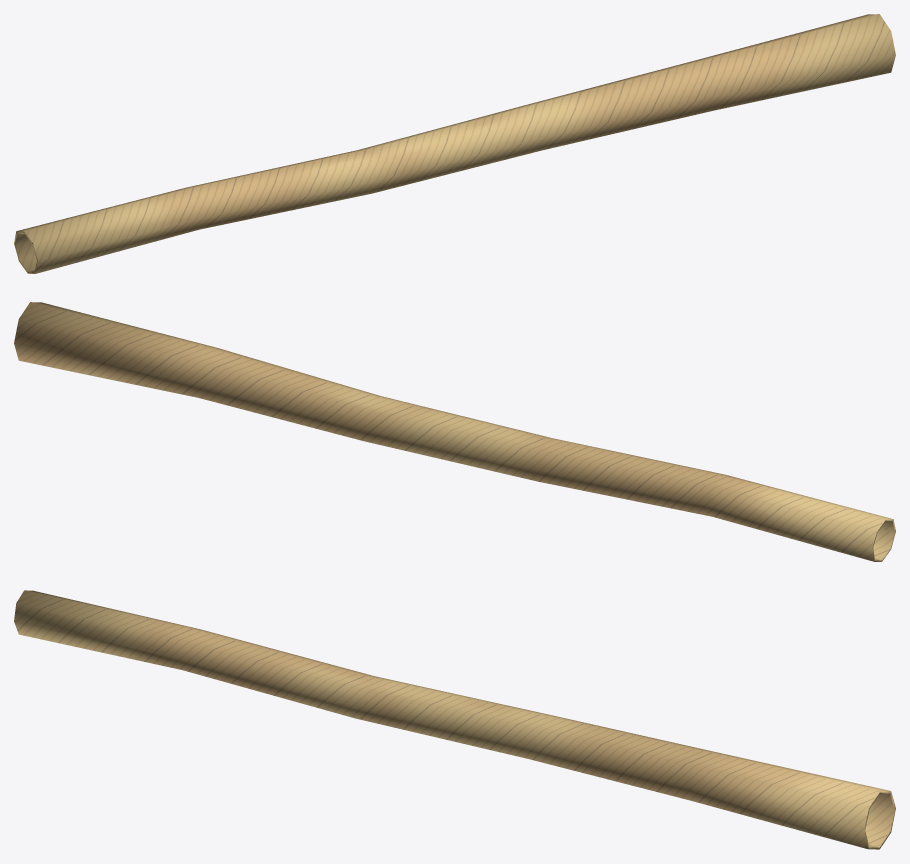
The model's file is Straw_LP.fbx.
3 renders of one model, top to bottom at view 1: azimuth 30°, elevation 25°; view 2: azimuth 150°, elevation 25°; view 3: azimuth 330°, elevation 25°, orthographic.
Visible parts, largest first — view 1: Straw_lp; view 2: Straw_lp; view 3: Straw_lp.
Part boxes in pixels (left/top/right/bottom): Straw_lp: left=14, top=14, right=895, bottom=273; Straw_lp: left=14, top=302, right=895, bottom=561; Straw_lp: left=14, top=590, right=895, bottom=849.
Size of the model in its own units: 87.61 by 5.75 by 5.75.
